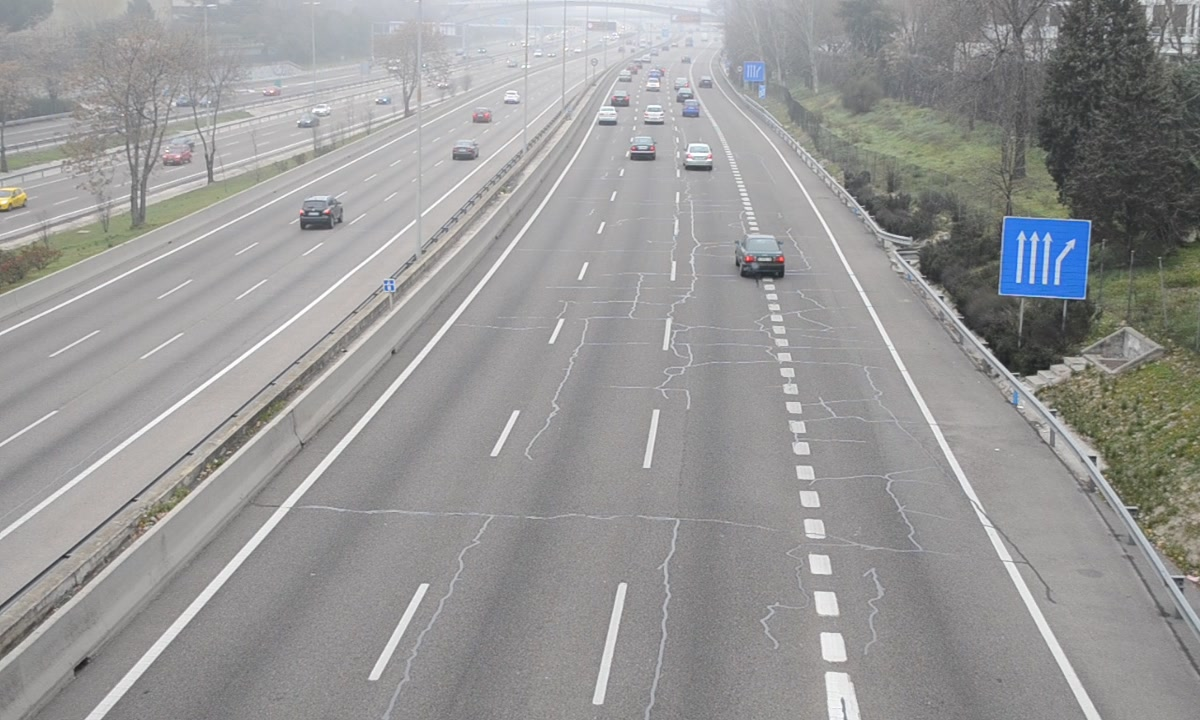car: (738, 233, 787, 280), (685, 142, 714, 171), (629, 134, 656, 161)
